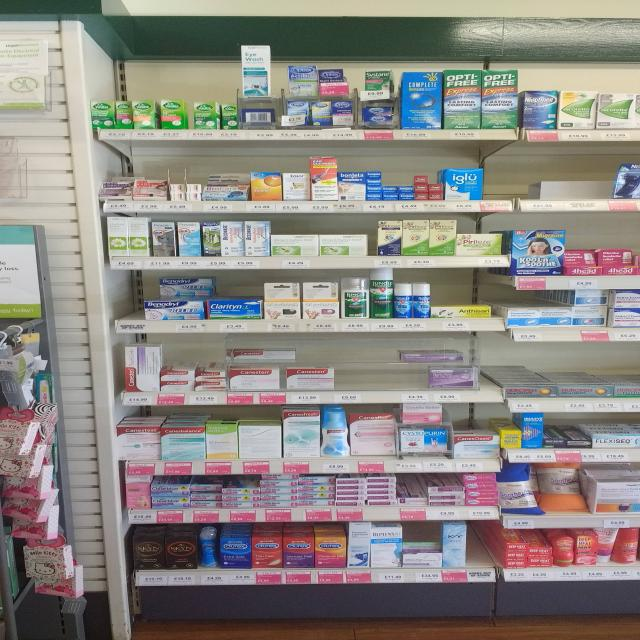void: (582, 145, 626, 217), (488, 154, 535, 210), (539, 150, 573, 216), (378, 356, 422, 402), (342, 364, 376, 406), (473, 522, 494, 583)
